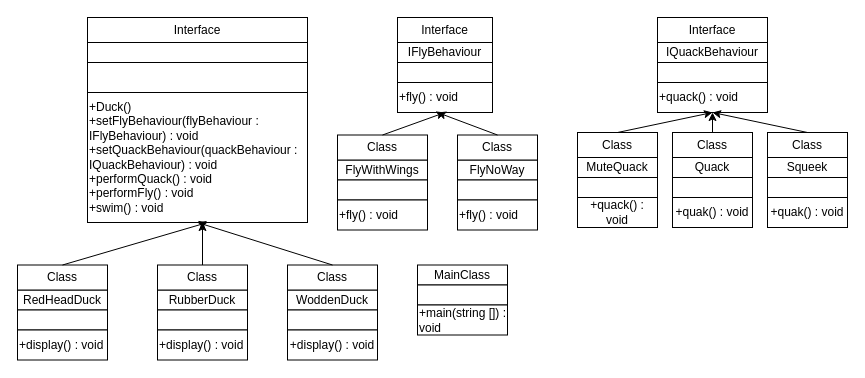
Image size: 865x378. Some labels were removed from this diagram. Here are the shapes that lost their labels. From the top down, the centre of each, then its label:
At (x=197, y=52): "Duck".
At (x=197, y=77): "~flyBehaviour : IFlyBehaviour ~quackBehaviour : IQuackBehaviour".
